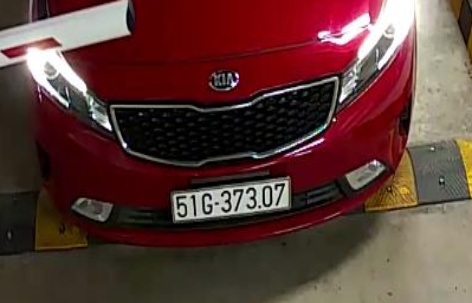plate: (164, 178, 295, 228)
